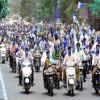motorcycles: (43, 64, 56, 96), (64, 60, 76, 94), (20, 62, 32, 94), (76, 58, 86, 93), (91, 63, 100, 95), (32, 46, 42, 73), (54, 59, 62, 89), (9, 49, 18, 74), (0, 40, 8, 62)
